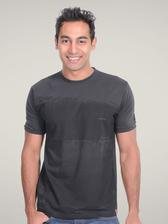clothoes: (18, 68, 141, 218)
